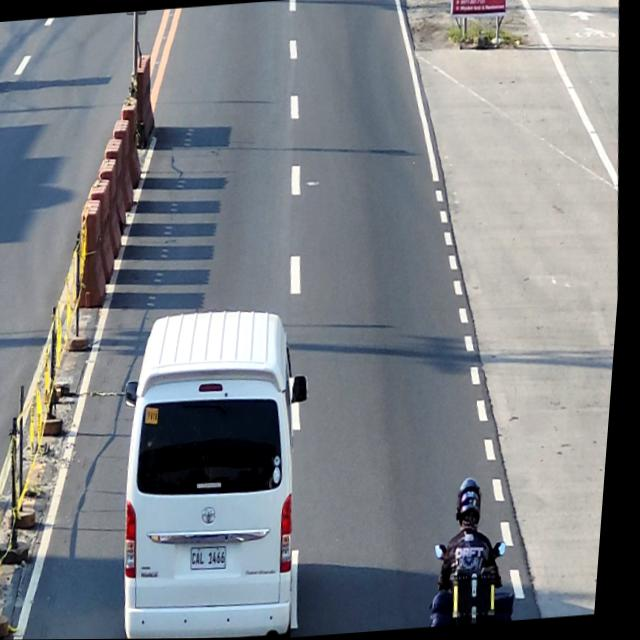Car: (109, 304, 335, 639)
License-Plate: (198, 546, 236, 572)
